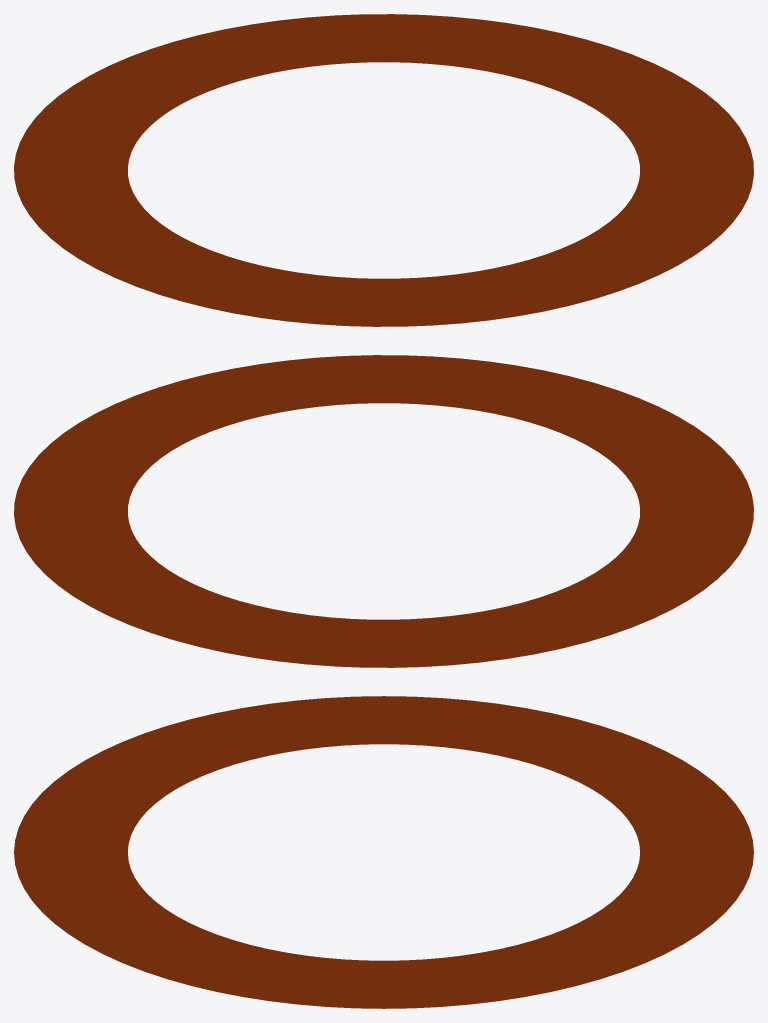
The model's file is arena-dirt-ring.glb.
The picture shows the model from 3 angles, top to bottom: view 1: azimuth 30°, elevation 25°; view 2: azimuth 150°, elevation 25°; view 3: azimuth 270°, elevation 25°; orthographic projection.
Size of the model in its own units: 1 by 2.22e-16 by 1.
